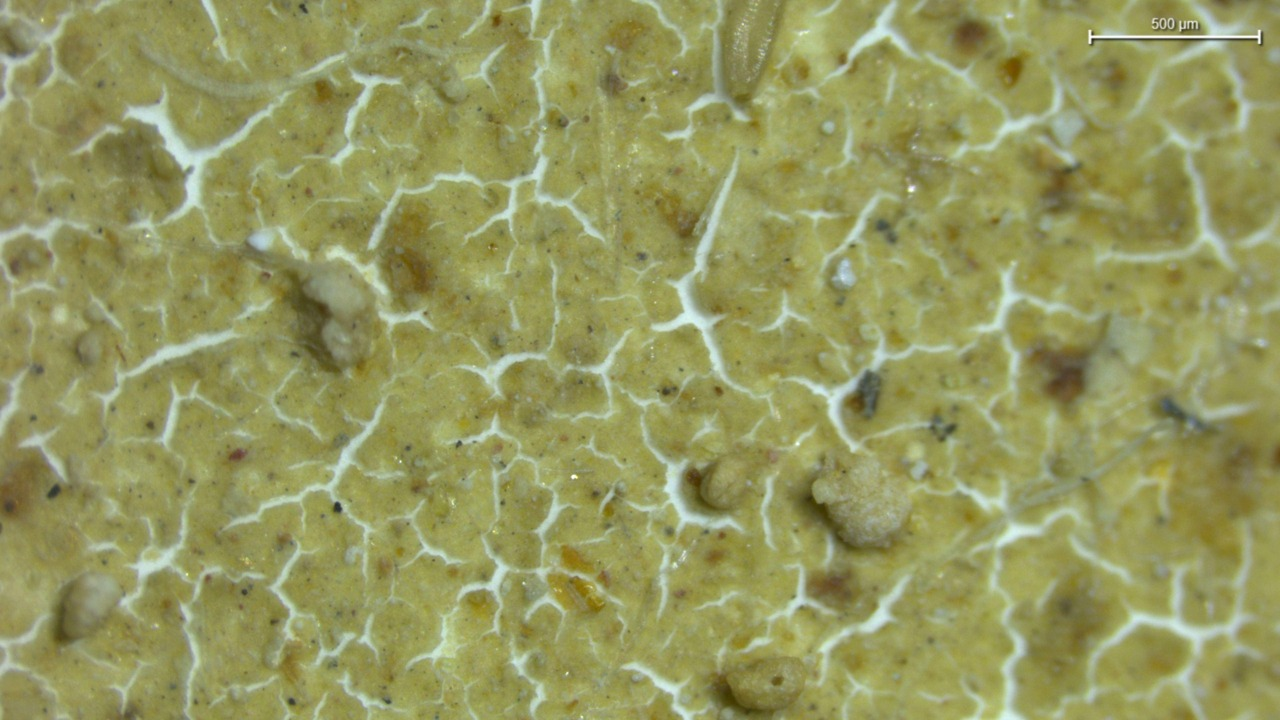microplastic_fragment: (808, 452, 920, 551), (300, 265, 386, 368), (59, 572, 123, 645), (727, 657, 807, 713), (704, 458, 755, 512), (832, 255, 857, 288), (251, 233, 272, 250)
